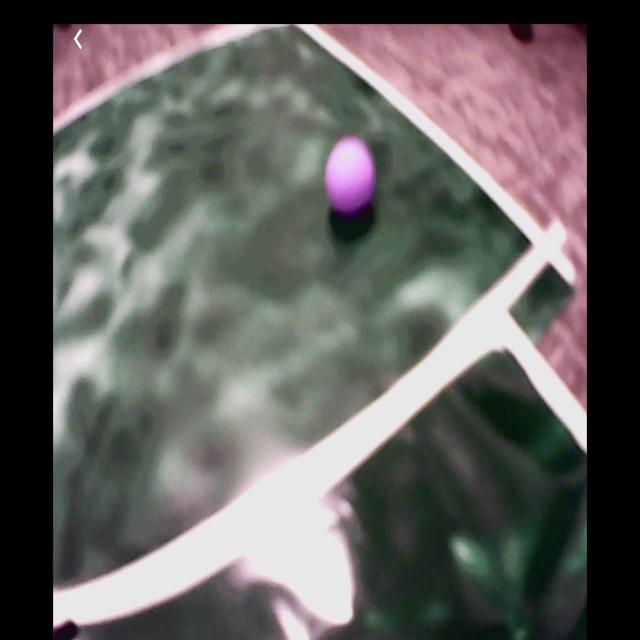ball: (324, 134, 377, 217)
